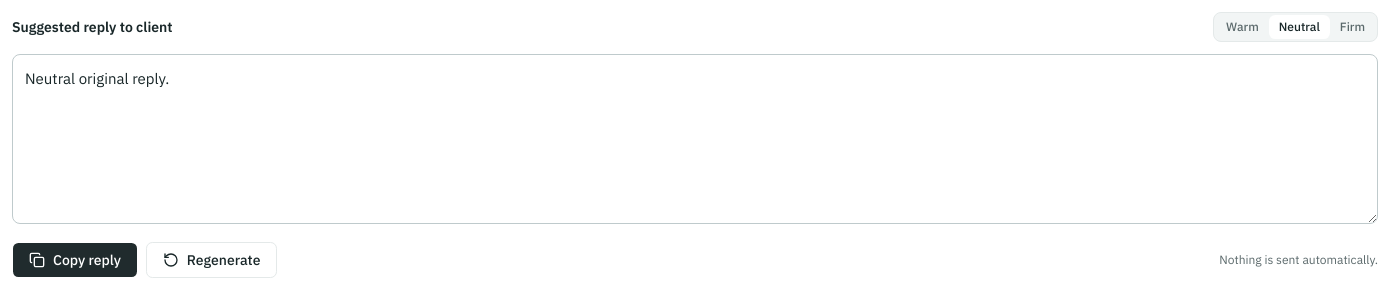
Test: ClientReply regeneration › shows loading and disables regeneration and tone controls
The image size is (1390, 295).
Later steps or results of the test are not shown.
Click the button "Regenerate" at {"x": 212, "y": 260}, box [146,242,278,278]
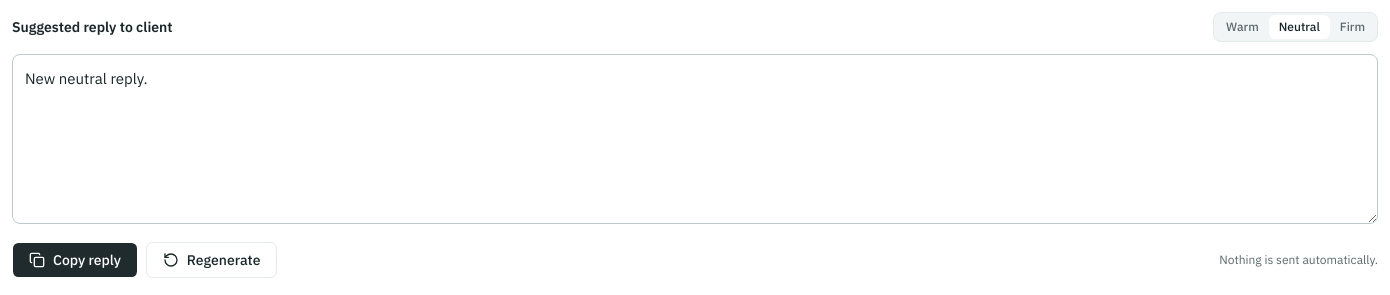
Check: the text box named "Editable reply to client" holds "New neutral reply.", box [12,54,1378,224]
